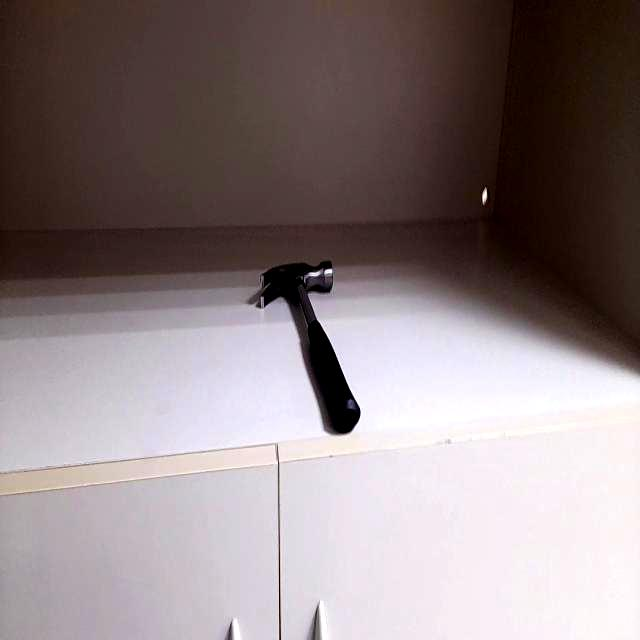hammer: (254, 259, 360, 433)
